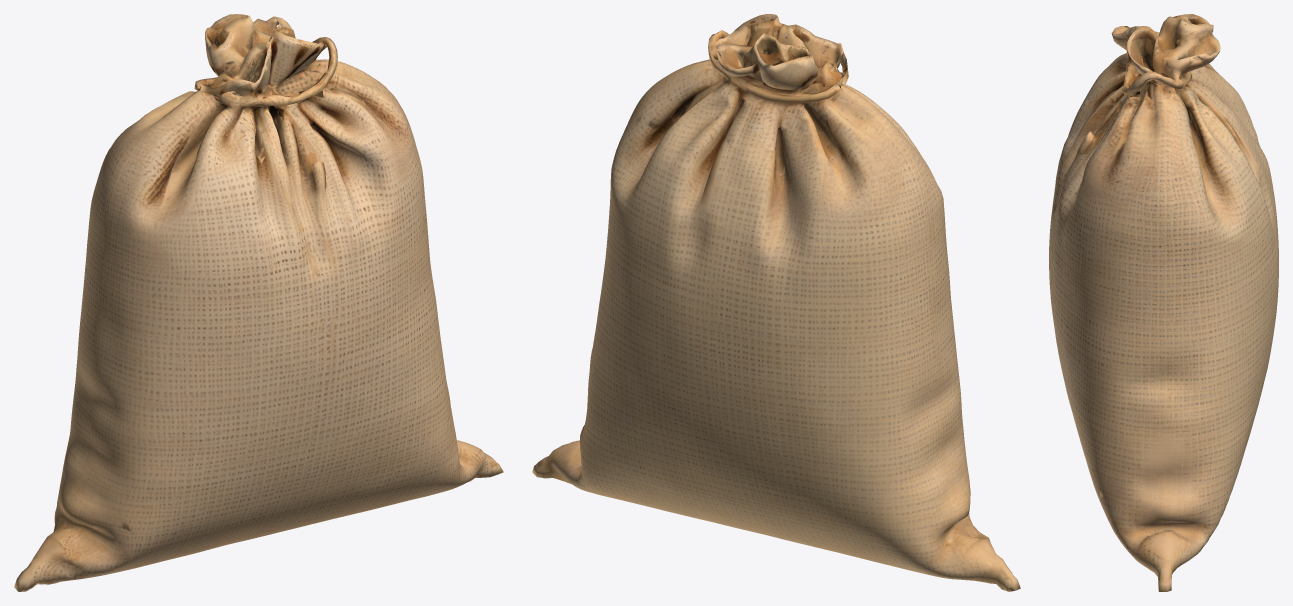
Rendered from sacSeminte.fbx.
3 views of the same model, side by side, from view 1: azimuth 30°, elevation 25°; view 2: azimuth 150°, elevation 25°; view 3: azimuth 270°, elevation 25° (orthographic). The views are drawn at different scales.
Parts seen in each view (by area): view 1: input; view 2: input; view 3: input.
Boxes of the visible parts, x1,y1,x2,y2 form: input: (14,14,503,591); input: (532,14,1020,591); input: (1049,14,1278,591).
Size of the model in its own units: 199 by 199 by 88.91.
1 material, 1 textured.
